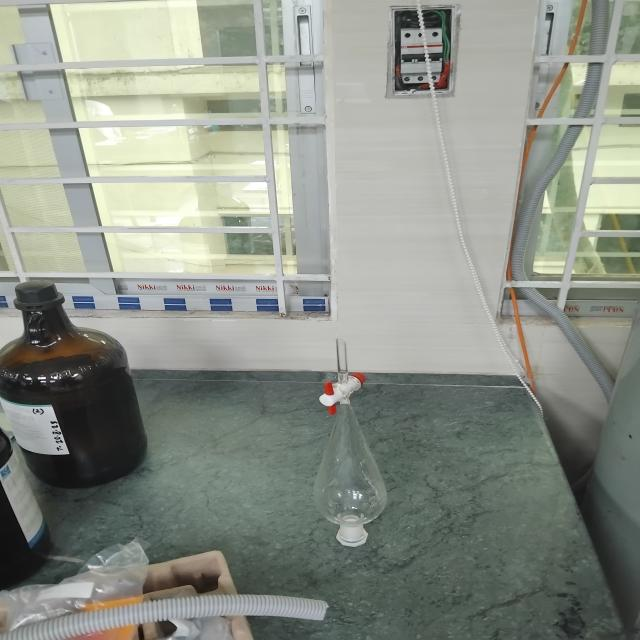Separating_Funnel: (282, 308, 425, 562)
